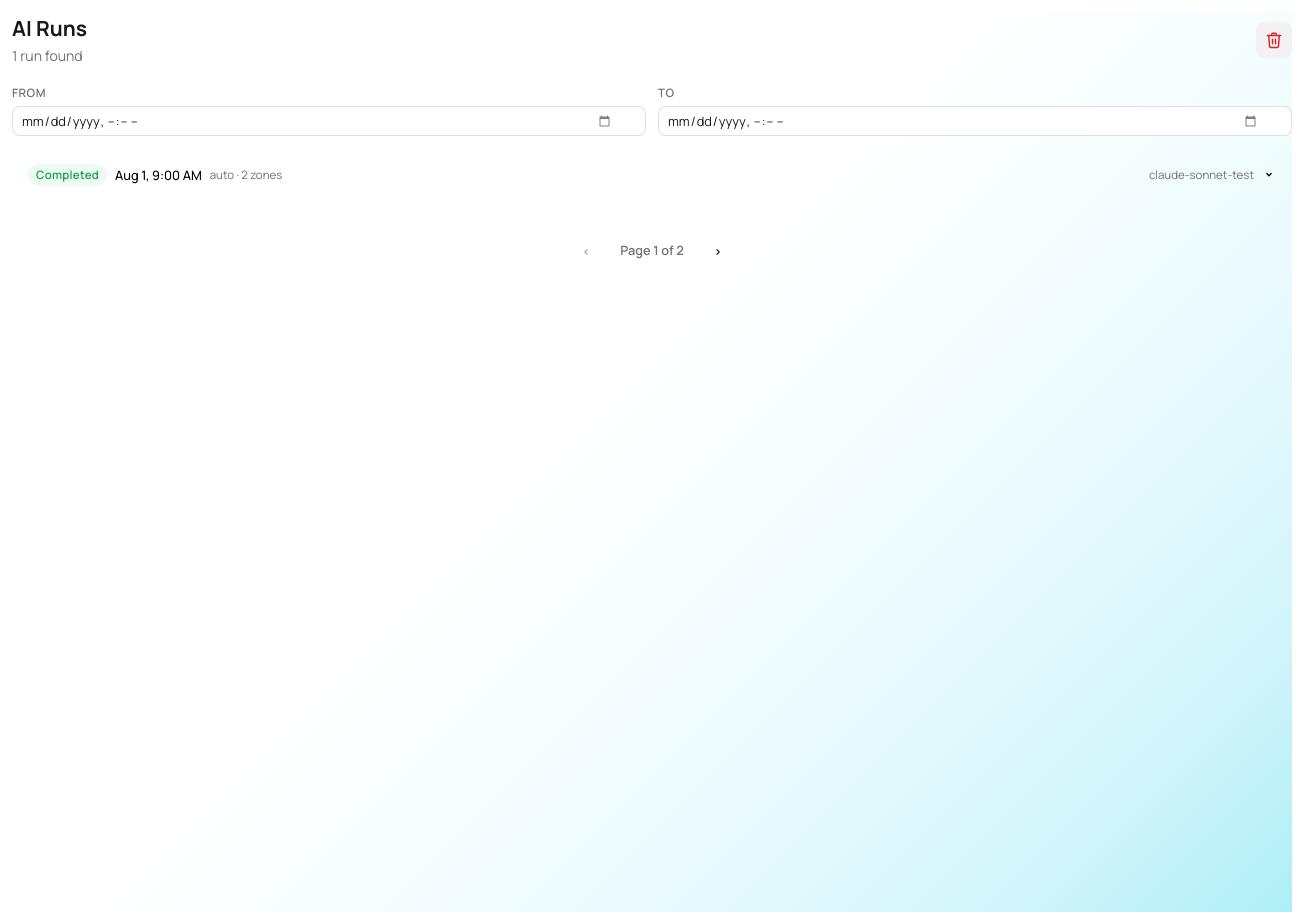
Test: AIRunsPage › lazy-loads a run's detail via fetchScheduleRun when expanded
The width and height of the screenshot is (1304, 912).
Click the button "claude-sonnet-test". click: (68, 175)
box: x1=12 y1=152 x2=1292 y2=198
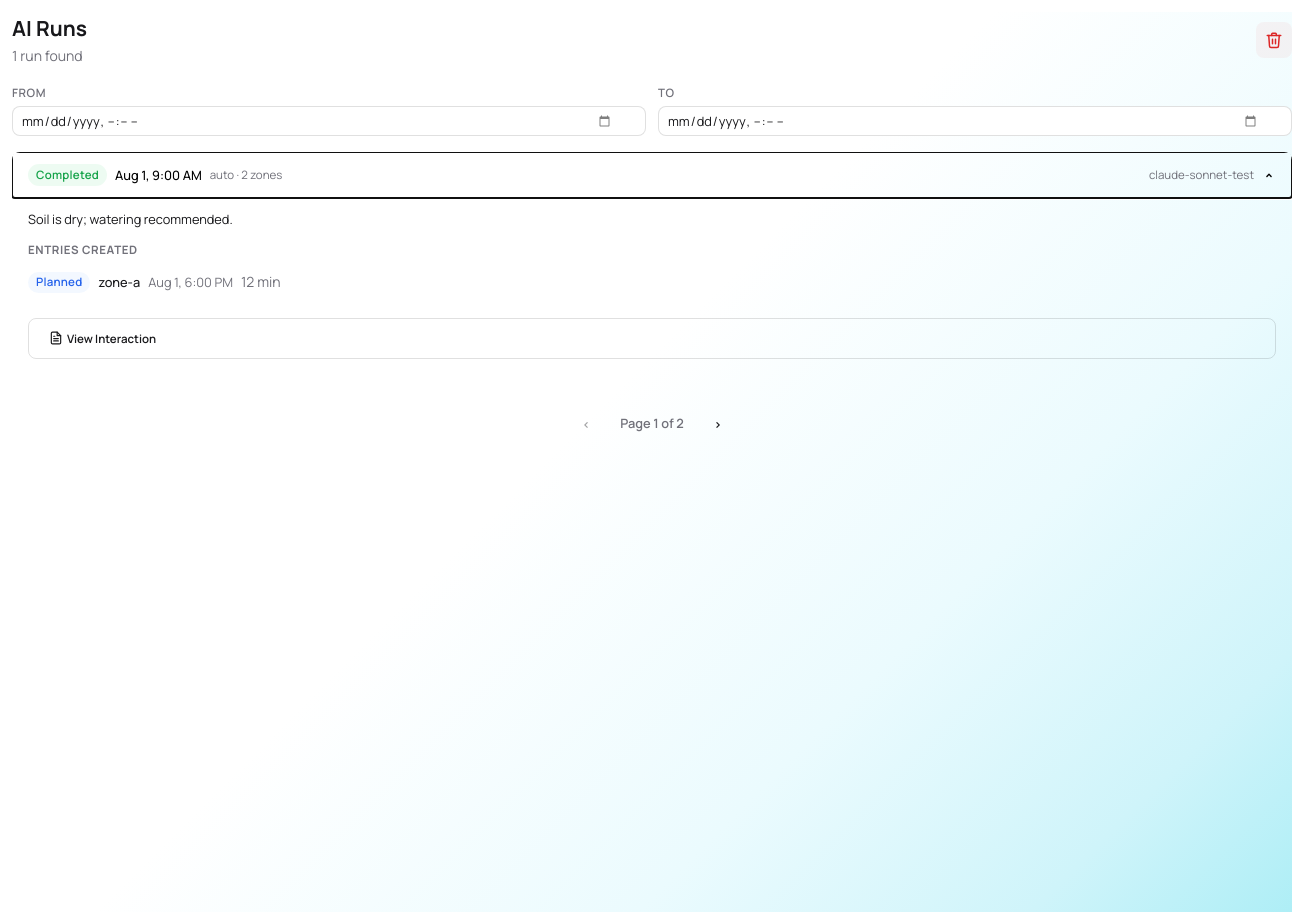
Expected: the heading "Entries Created" is shown, x1=28 y1=242 x2=138 y2=257
Expected: the text "12 min" is shown, x1=241 y1=271 x2=281 y2=294
